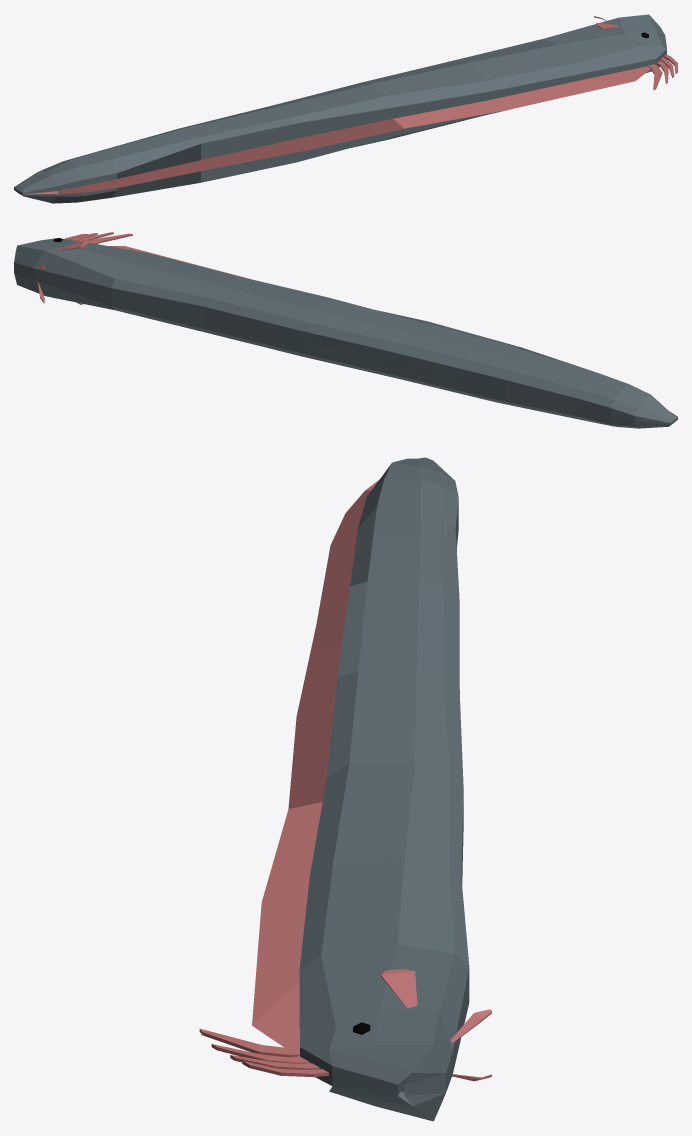
File: Oarfish.obj
The picture shows the model from 3 angles, top to bottom: view 1: azimuth 30°, elevation 25°; view 2: azimuth 150°, elevation 25°; view 3: azimuth 270°, elevation 25°; orthographic projection. The views are drawn at different scales.
Visible parts, largest first — view 1: Oarfish_0; view 2: Oarfish_0; view 3: Oarfish_0.
Boxes of the visible parts, <box> form: Oarfish_0: <box>14,14,677,203</box>; Oarfish_0: <box>14,232,677,428</box>; Oarfish_0: <box>199,457,492,1121</box>.
Bounding box in the file's own units: 1.6 × 0.1338 × 0.3151.
1 material, 1 textured.
